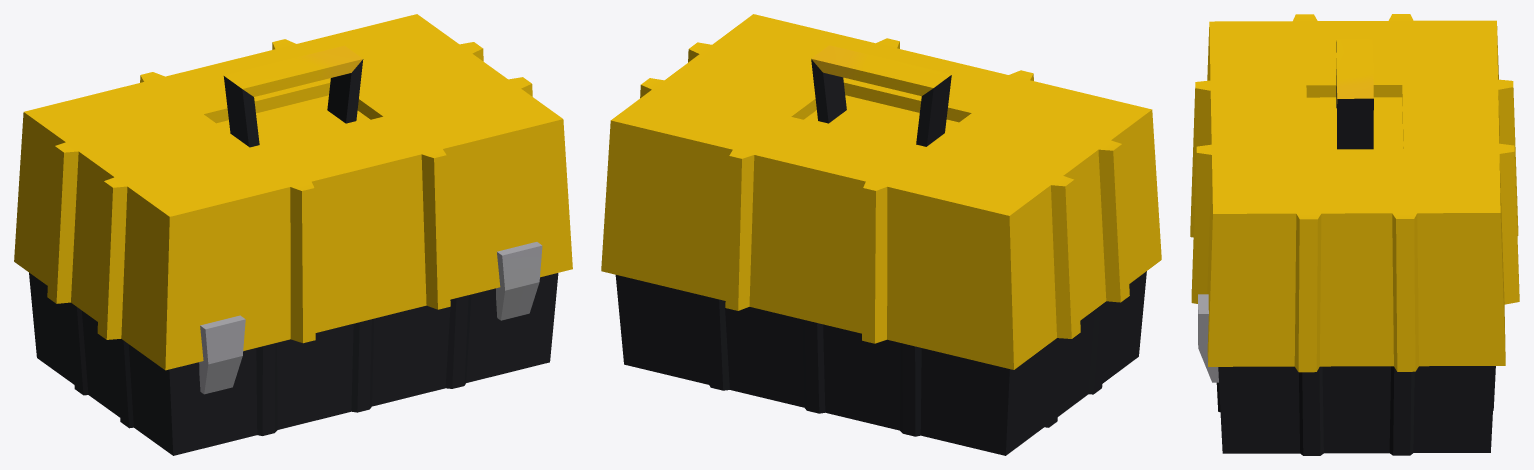
Rendered from Tool_box_closed.fbx.
The picture shows the model from 3 angles, left to right: view 1: azimuth 30°, elevation 25°; view 2: azimuth 150°, elevation 25°; view 3: azimuth 270°, elevation 25°; orthographic projection.
Parts seen in each view (by area): view 1: Tool_box_closed; view 2: Tool_box_closed; view 3: Tool_box_closed.
Boxes of the visible parts, x1,y1,x2,y2 form: Tool_box_closed: (14,14,572,455); Tool_box_closed: (601,14,1161,455); Tool_box_closed: (1190,14,1519,455).
Bounding box in the file's own units: 89.24 × 58.58 × 57.49.
